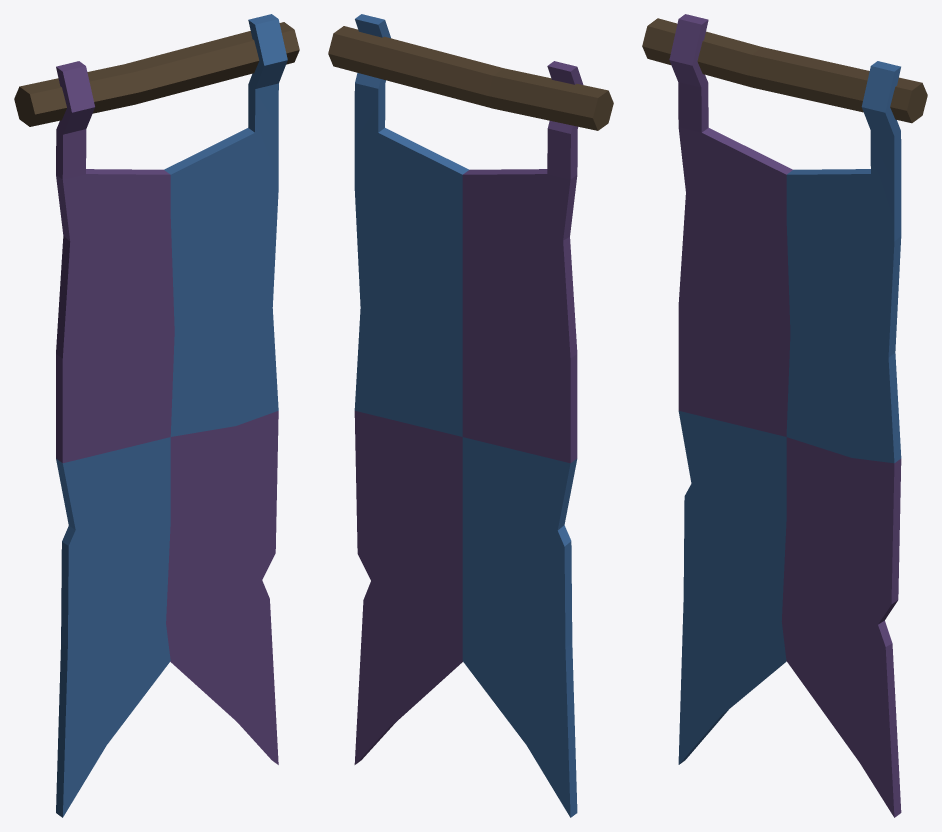
Rendered from SM_Prop_Banner_01.gltf.
3 views of the same model, side by side, from view 1: azimuth 30°, elevation 25°; view 2: azimuth 150°, elevation 25°; view 3: azimuth 330°, elevation 25° (orthographic).
Parts seen in each view (by area): view 1: SM_Prop_Banner_01; view 2: SM_Prop_Banner_01; view 3: SM_Prop_Banner_01.
Boxes of the visible parts, box(x1,y1,x2,y2) form: SM_Prop_Banner_01: box(14, 14, 299, 817); SM_Prop_Banner_01: box(328, 14, 613, 817); SM_Prop_Banner_01: box(642, 14, 927, 817).
Bounding box in the file's own units: 1.2 × 3.23 × 0.2026.
Materials: 1 (1 with a texture image).
